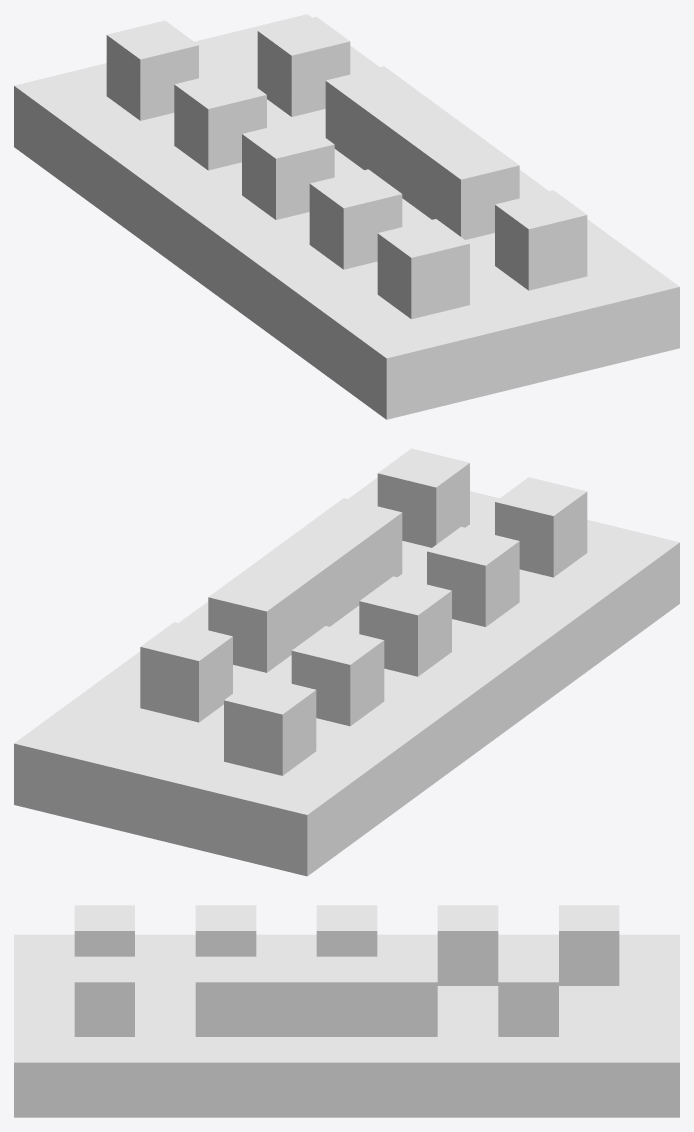
Rendered from Keyboard.gltf.
3 views of the same model, one above another, from view 1: azimuth 30°, elevation 25°; view 2: azimuth 150°, elevation 25°; view 3: azimuth 270°, elevation 25° (orthographic). The views are drawn at different scales.
Size of the model in its own units: 5 by 2 by 11.
Materials: 1 (1 with a texture image).
